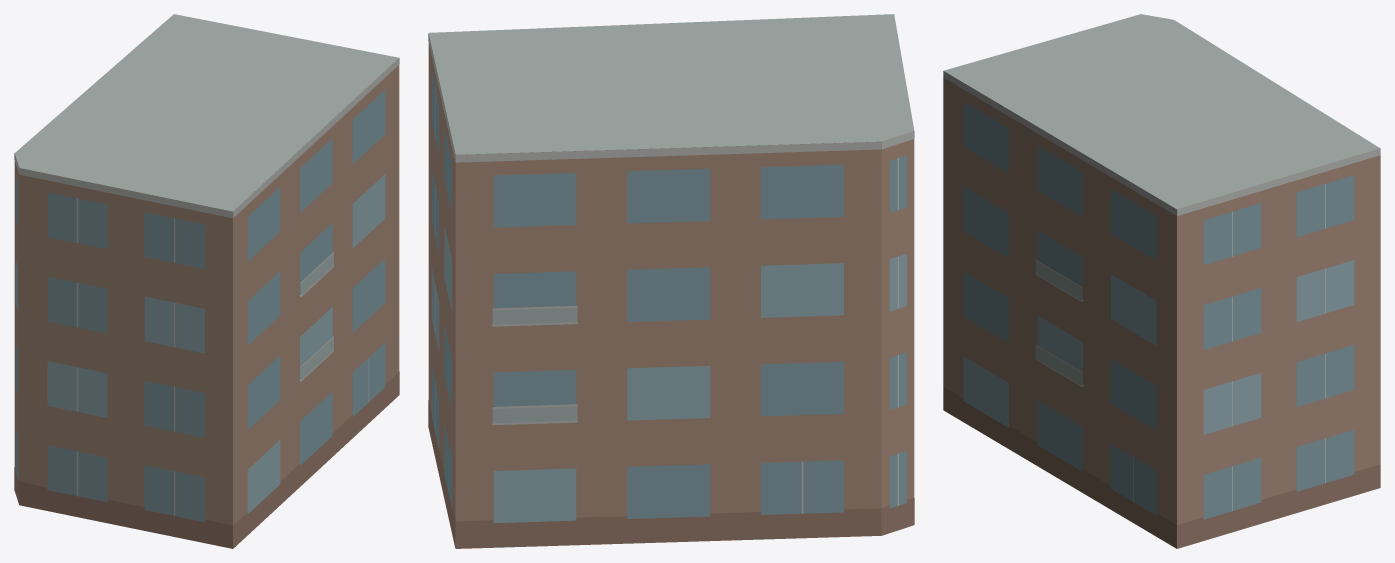
Rendered from survey-upis-32940845.glb.
The picture shows the model from 3 angles, left to right: view 1: azimuth 30°, elevation 25°; view 2: azimuth 150°, elevation 25°; view 3: azimuth 270°, elevation 25°; orthographic projection. The views are drawn at different scales.
Visible parts, largest first — view 1: survey-upis-32940845.tmp; view 2: survey-upis-32940845.tmp; view 3: survey-upis-32940845.tmp.
Boxes of the visible parts, x1=… form: survey-upis-32940845.tmp: x1=14, y1=14, x2=399, y2=548; survey-upis-32940845.tmp: x1=428, y1=14, x2=914, y2=548; survey-upis-32940845.tmp: x1=943, y1=14, x2=1380, y2=548.
Size of the model in its own units: 15.07 by 12.2 by 14.25.
